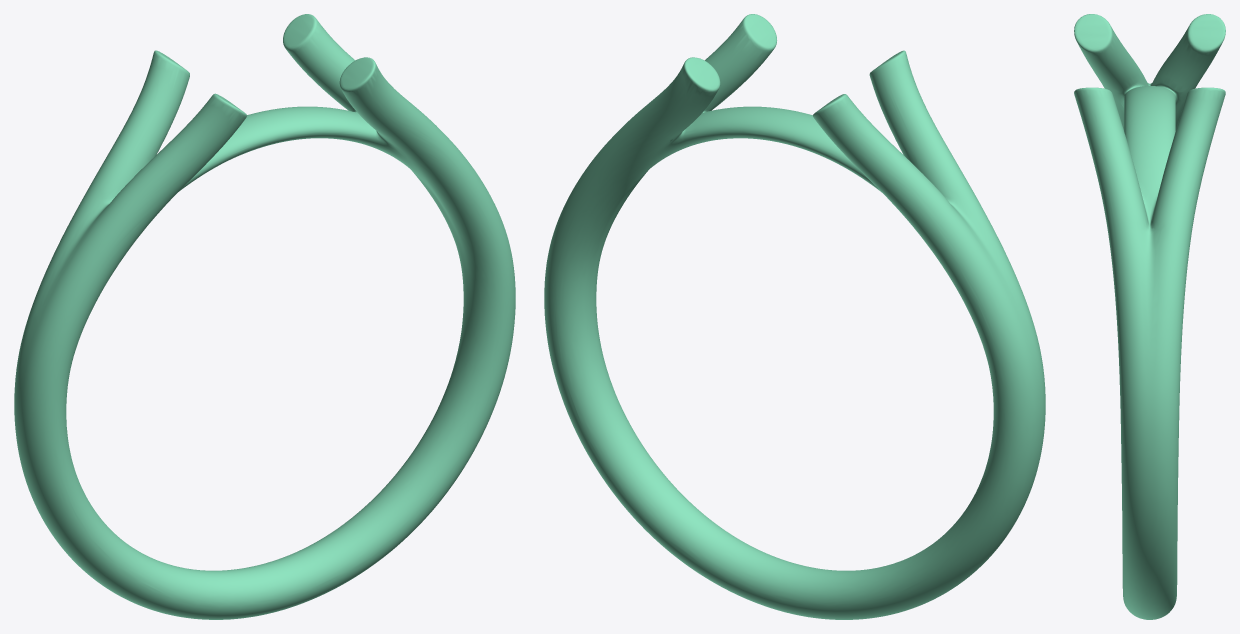
The picture shows the model from 3 angles, left to right: view 1: azimuth 30°, elevation 25°; view 2: azimuth 150°, elevation 25°; view 3: azimuth 270°, elevation 25°; orthographic projection. The views are drawn at different scales.
Visible parts, largest first — view 1: Metal02; view 2: Metal02; view 3: Metal02.
Boxes of the visible parts, bbox=[...] form: Metal02: bbox=[14, 14, 515, 619]; Metal02: bbox=[544, 14, 1045, 619]; Metal02: bbox=[1074, 14, 1225, 619].
Size of the model in its own units: 20.88 by 22.53 by 5.71.
